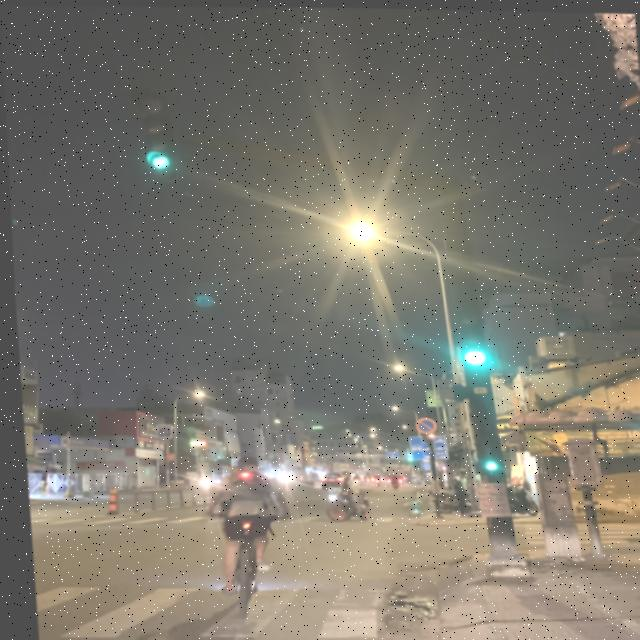Green: (446, 303, 499, 379), (124, 115, 182, 181), (467, 433, 504, 473)
